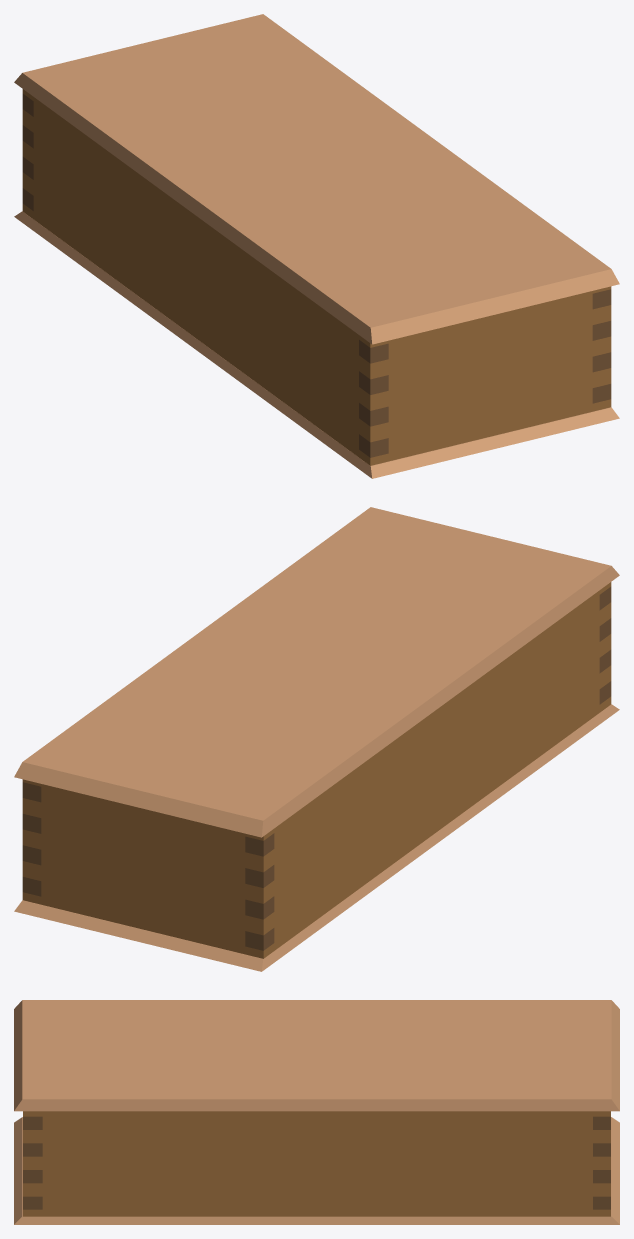
Rendered from spoon case 2.fbx.
3 views of the same model, one above another, from view 1: azimuth 30°, elevation 25°; view 2: azimuth 150°, elevation 25°; view 3: azimuth 270°, elevation 25° (orthographic). The views are drawn at different scales.
Visible parts, largest first — view 1: Cube.002; view 2: Cube.002; view 3: Cube.002.
Part boxes in pixels (x1=…): Cube.002: x1=14, y1=14, x2=619, y2=478; Cube.002: x1=14, y1=507, x2=619, y2=971; Cube.002: x1=14, y1=1000, x2=619, y2=1224.
Size of the model in its own units: 61.71 by 34.92 by 155.
